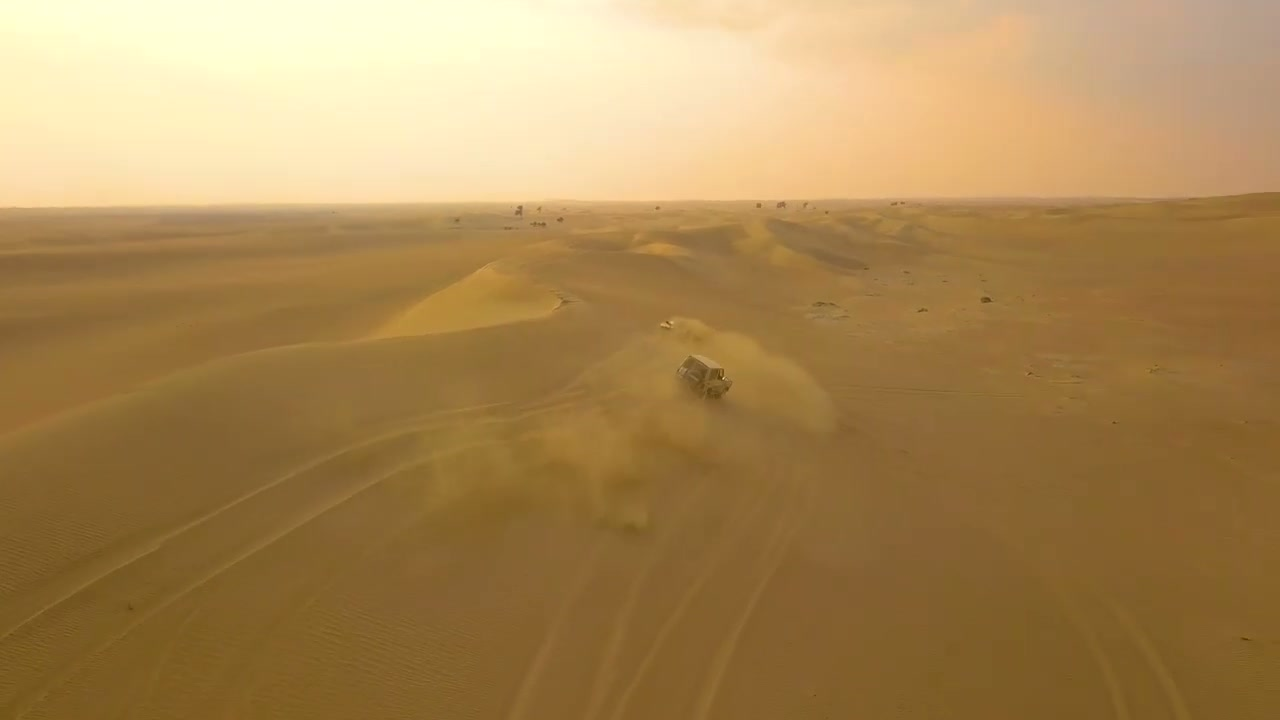vehicle_track: (3, 438, 508, 719), (0, 403, 509, 642), (948, 512, 1192, 719), (219, 514, 425, 716), (608, 486, 782, 719), (584, 481, 710, 719), (691, 474, 813, 719), (506, 541, 605, 719), (122, 606, 199, 719), (829, 384, 1025, 398)
